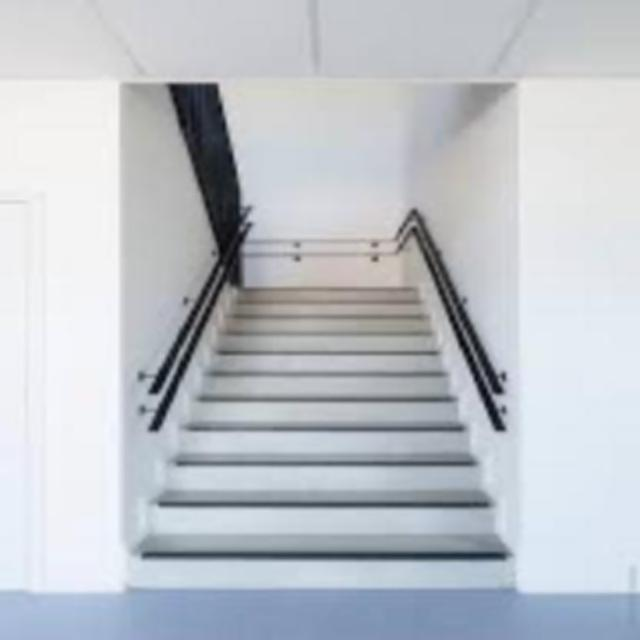stair: (128, 398, 504, 591)
